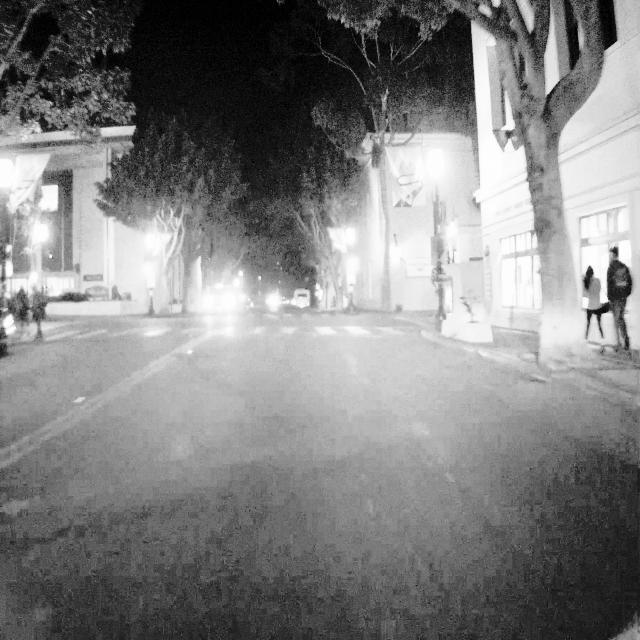Tree: (495, 0, 605, 366)
